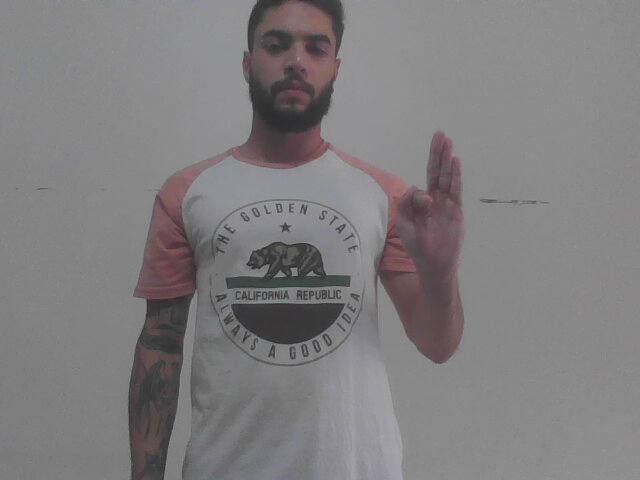f: (390, 127, 473, 284)
